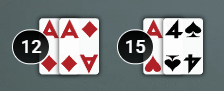4: (162, 16, 185, 42)
a: (36, 17, 61, 42), (142, 17, 165, 41), (58, 16, 80, 41)
